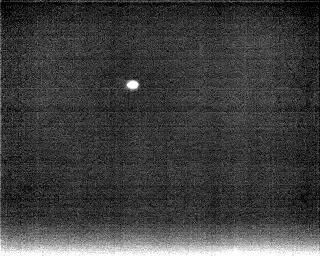AIRPLANE: (124, 77, 142, 93)
